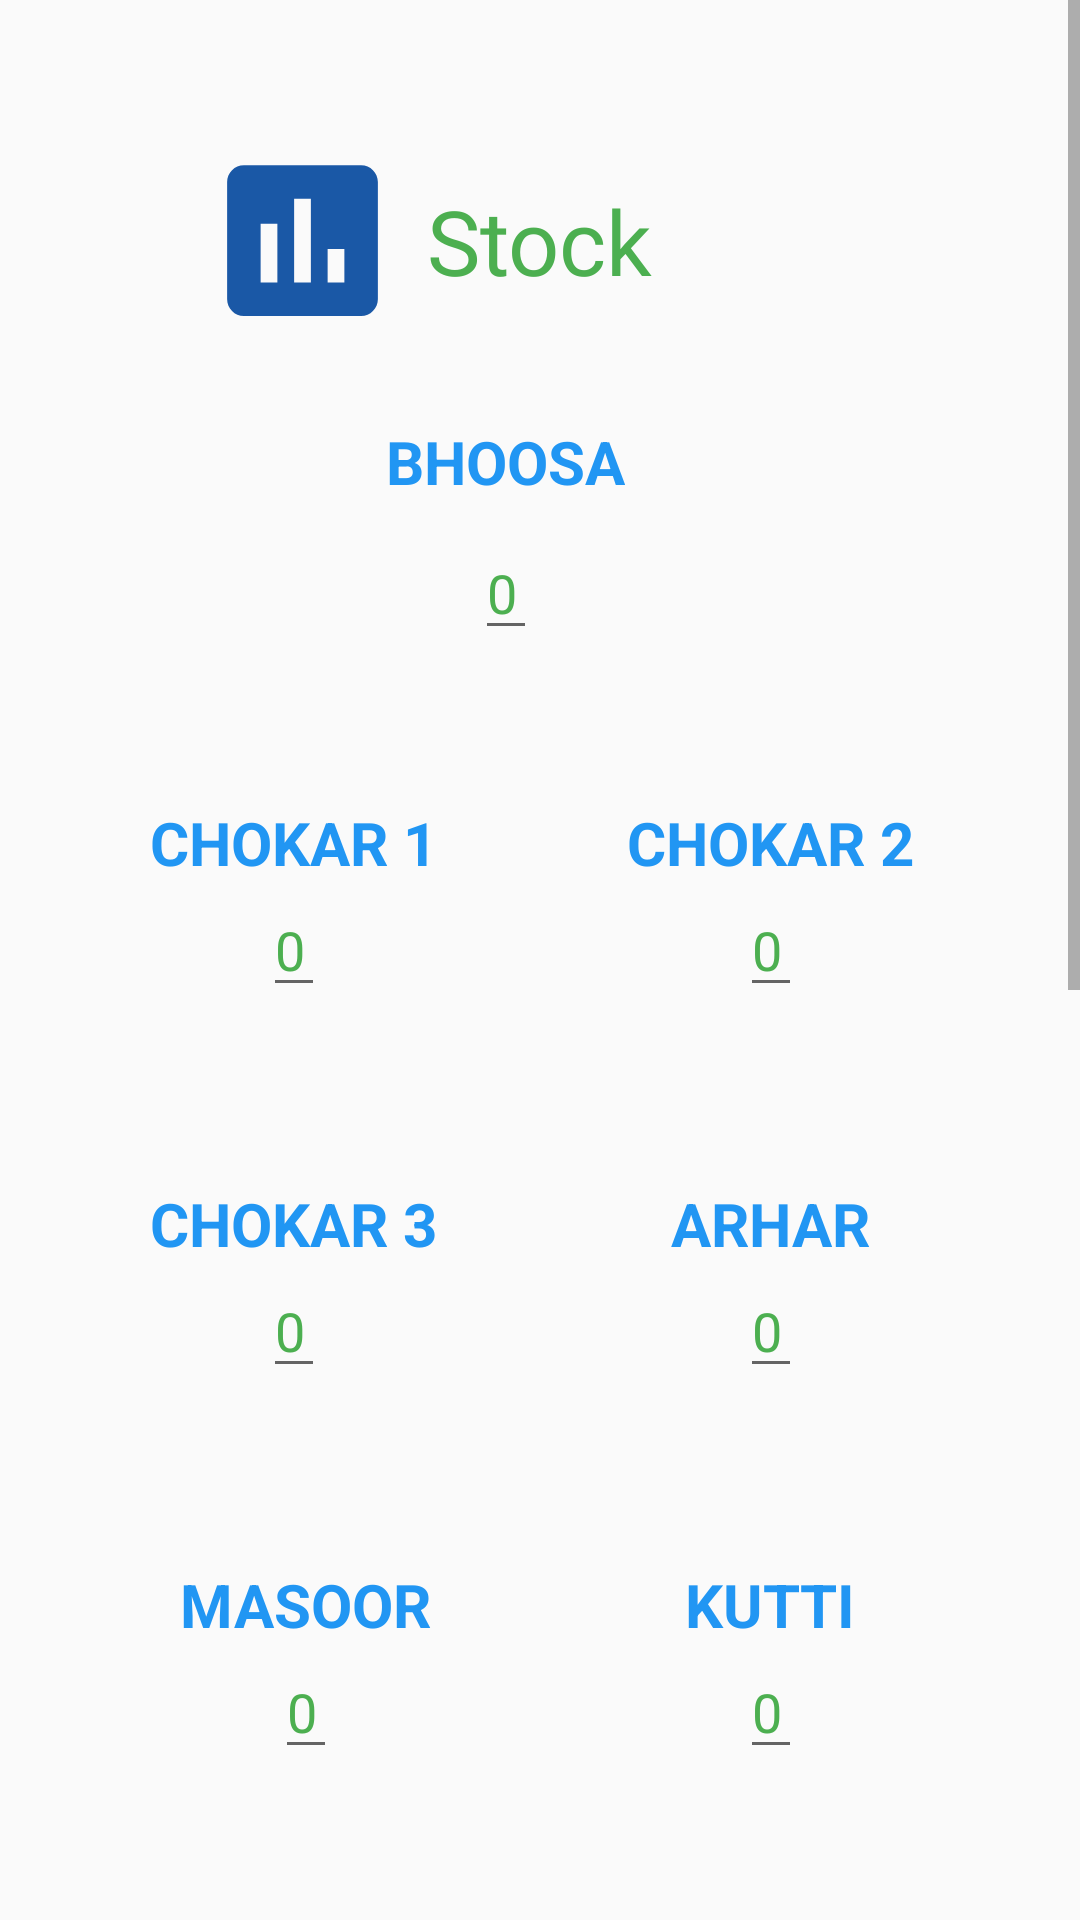

Named icons in this screenshot (1080x1920) and their centers, (x=x, y=y):
insert chart: (x=302, y=240)
